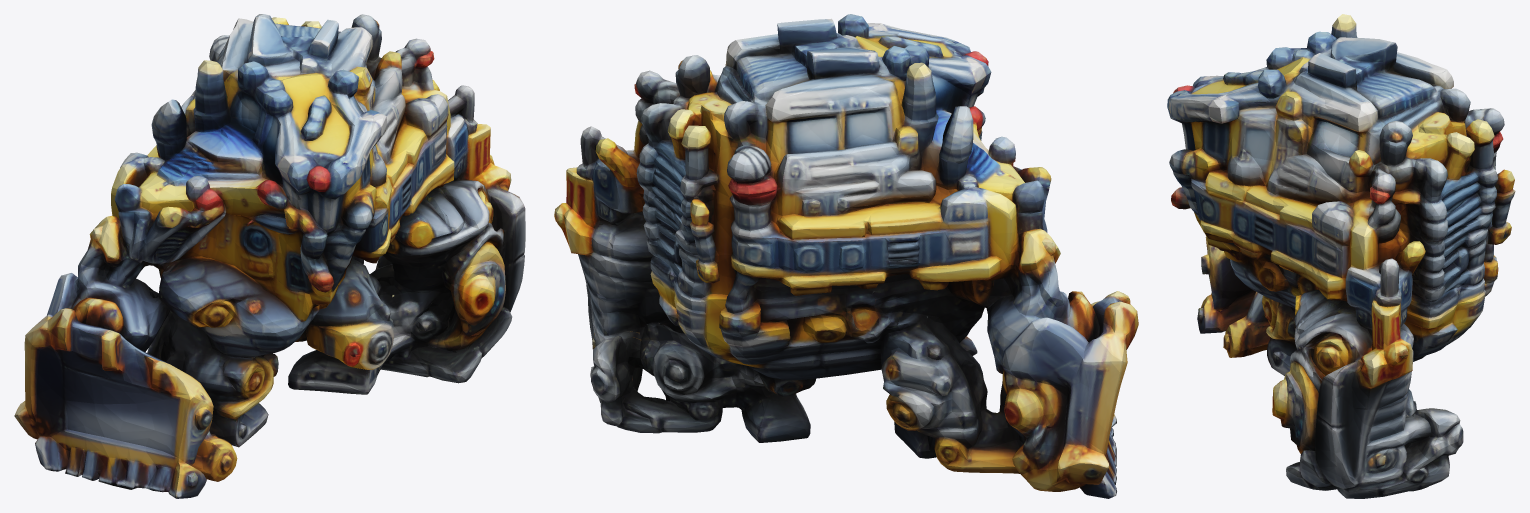
3 renders of one model, left to right at view 1: azimuth 30°, elevation 25°; view 2: azimuth 150°, elevation 25°; view 3: azimuth 270°, elevation 25°, orthographic. The views are drawn at different scales.
Parts seen in each view (by area): view 1: world; view 2: world; view 3: world.
Part boxes in pixels (x1,y1,x2,y2): world: (14,14,525,498); world: (554,14,1138,498); world: (1167,14,1515,498).
Bounding box in the file's own units: 0.9923 × 0.7103 × 0.6014.
1 material, 1 textured.
